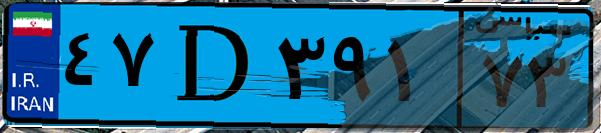1: (385, 28, 445, 110)
3: (270, 28, 330, 110), (525, 38, 570, 115)
4: (57, 26, 110, 100)
7: (475, 38, 525, 113), (110, 28, 158, 98)
9: (330, 28, 385, 110)
D: (158, 12, 270, 120)
